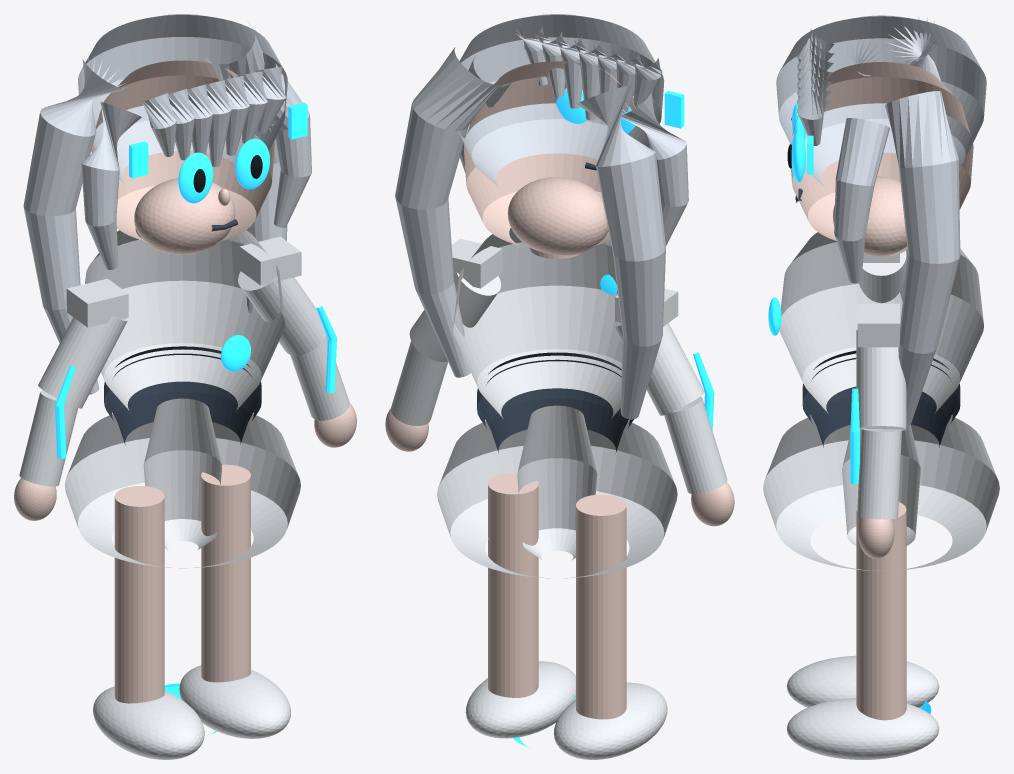
Rendered from ai_companion_character_v3.glb.
3 views of the same model, side by side, from view 1: azimuth 30°, elevation 25°; view 2: azimuth 150°, elevation 25°; view 3: azimuth 270°, elevation 25° (orthographic).
Parts seen in each view (by area): view 1: torso, skirt, back_hair_-1, leg_-1, hair_cap, leg_1, coat_tail_-1, head, boot_-1, boot_1, chin, side_hair_-1 (+26 smaller); view 2: torso, back_hair_1, skirt, back_hair_-1, hair_cap, leg_-1, leg_1, coat_tail_-1, head, chin, boot_-1, boot_1 (+20 smaller); view 3: skirt, back_hair_1, torso, hair_cap, leg_1, head, boot_1, side_hair_1, upper_arm_1, boot_-1, forearm_1, waist (+11 smaller).
Part boxes in pixels (left/top/right/bottom): torso: left=85, top=228, right=285, bottom=412; skirt: left=64, top=413, right=300, bottom=568; back_hair_-1: left=23, top=53, right=126, bottom=394; leg_-1: left=114, top=486, right=164, bottom=703; hair_cap: left=78, top=14, right=287, bottom=185; leg_1: left=201, top=464, right=250, bottom=682; coat_tail_-1: left=143, top=398, right=221, bottom=550; head: left=91, top=60, right=274, bottom=242; boot_-1: left=93, top=686, right=204, bottom=759; boot_1: left=179, top=665, right=290, bottom=738; chin: left=134, top=178, right=235, bottom=254; side_hair_-1: left=81, top=102, right=141, bottom=269; torso: left=453, top=228, right=622, bottom=418; back_hair_1: left=395, top=47, right=501, bottom=377; skirt: left=437, top=421, right=677, bottom=578; back_hair_-1: left=576, top=85, right=665, bottom=419; hair_cap: left=457, top=14, right=664, bottom=187; leg_-1: left=576, top=494, right=626, bottom=719; leg_1: left=488, top=473, right=538, bottom=697; coat_tail_-1: left=517, top=405, right=597, bottom=559; head: left=463, top=61, right=648, bottom=246; chin: left=507, top=177, right=608, bottom=255; boot_-1: left=553, top=682, right=667, bottom=759; boot_1: left=465, top=661, right=575, bottom=738; skirt: left=763, top=416, right=999, bottom=570; back_hair_1: left=885, top=91, right=960, bottom=426; torso: left=779, top=230, right=983, bottom=413; hair_cap: left=776, top=15, right=986, bottom=186; leg_1: left=856, top=502, right=906, bottom=720; head: left=789, top=62, right=973, bottom=240; boot_1: left=787, top=698, right=939, bottom=759; side_hair_1: left=834, top=118, right=889, bottom=283; upper_arm_1: left=856, top=330, right=906, bottom=430; boot_-1: left=786, top=655, right=939, bottom=707; forearm_1: left=857, top=428, right=901, bottom=519; waist: left=805, top=358, right=957, bottom=447.
Size of the model in its own units: 1.49 by 2.9 by 0.9.
